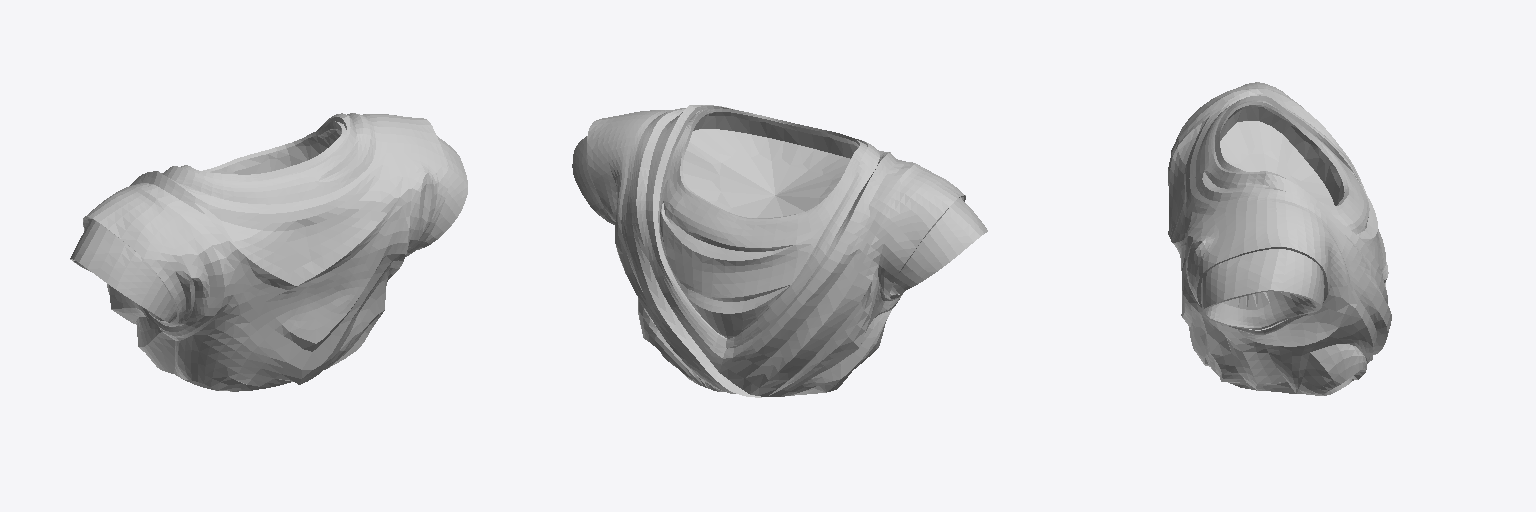
Rendered from torso.obj.
3 views of the same model, side by side, from view 1: azimuth 30°, elevation 25°; view 2: azimuth 150°, elevation 25°; view 3: azimuth 270°, elevation 25° (orthographic).
Parts seen in each view (by area): view 1: torso:MeshpolySurface4; view 2: torso:MeshpolySurface4; view 3: torso:MeshpolySurface4.
Part boxes in pixels (left/top/right/bottom): torso:MeshpolySurface4: left=70, top=113, right=467, bottom=391; torso:MeshpolySurface4: left=572, top=105, right=987, bottom=397; torso:MeshpolySurface4: left=1168, top=82, right=1391, bottom=395.
Size of the model in its own units: 0.7865 by 0.4802 by 0.3913.